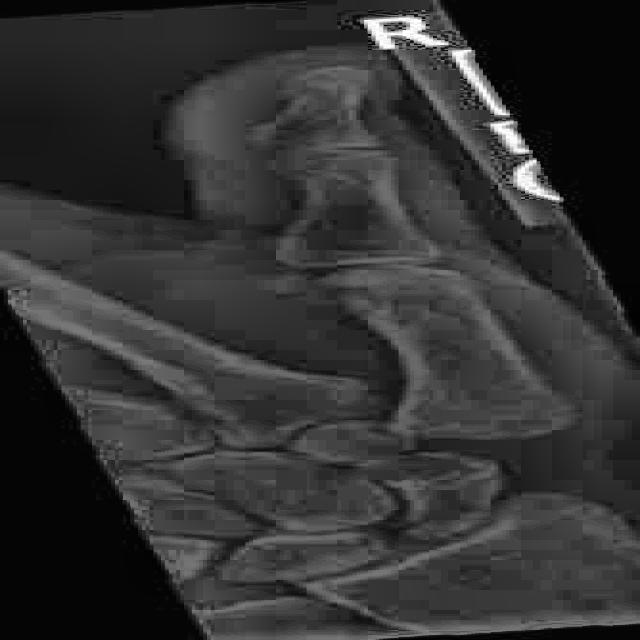fingers positive: (219, 247, 512, 339), (218, 130, 436, 208)
